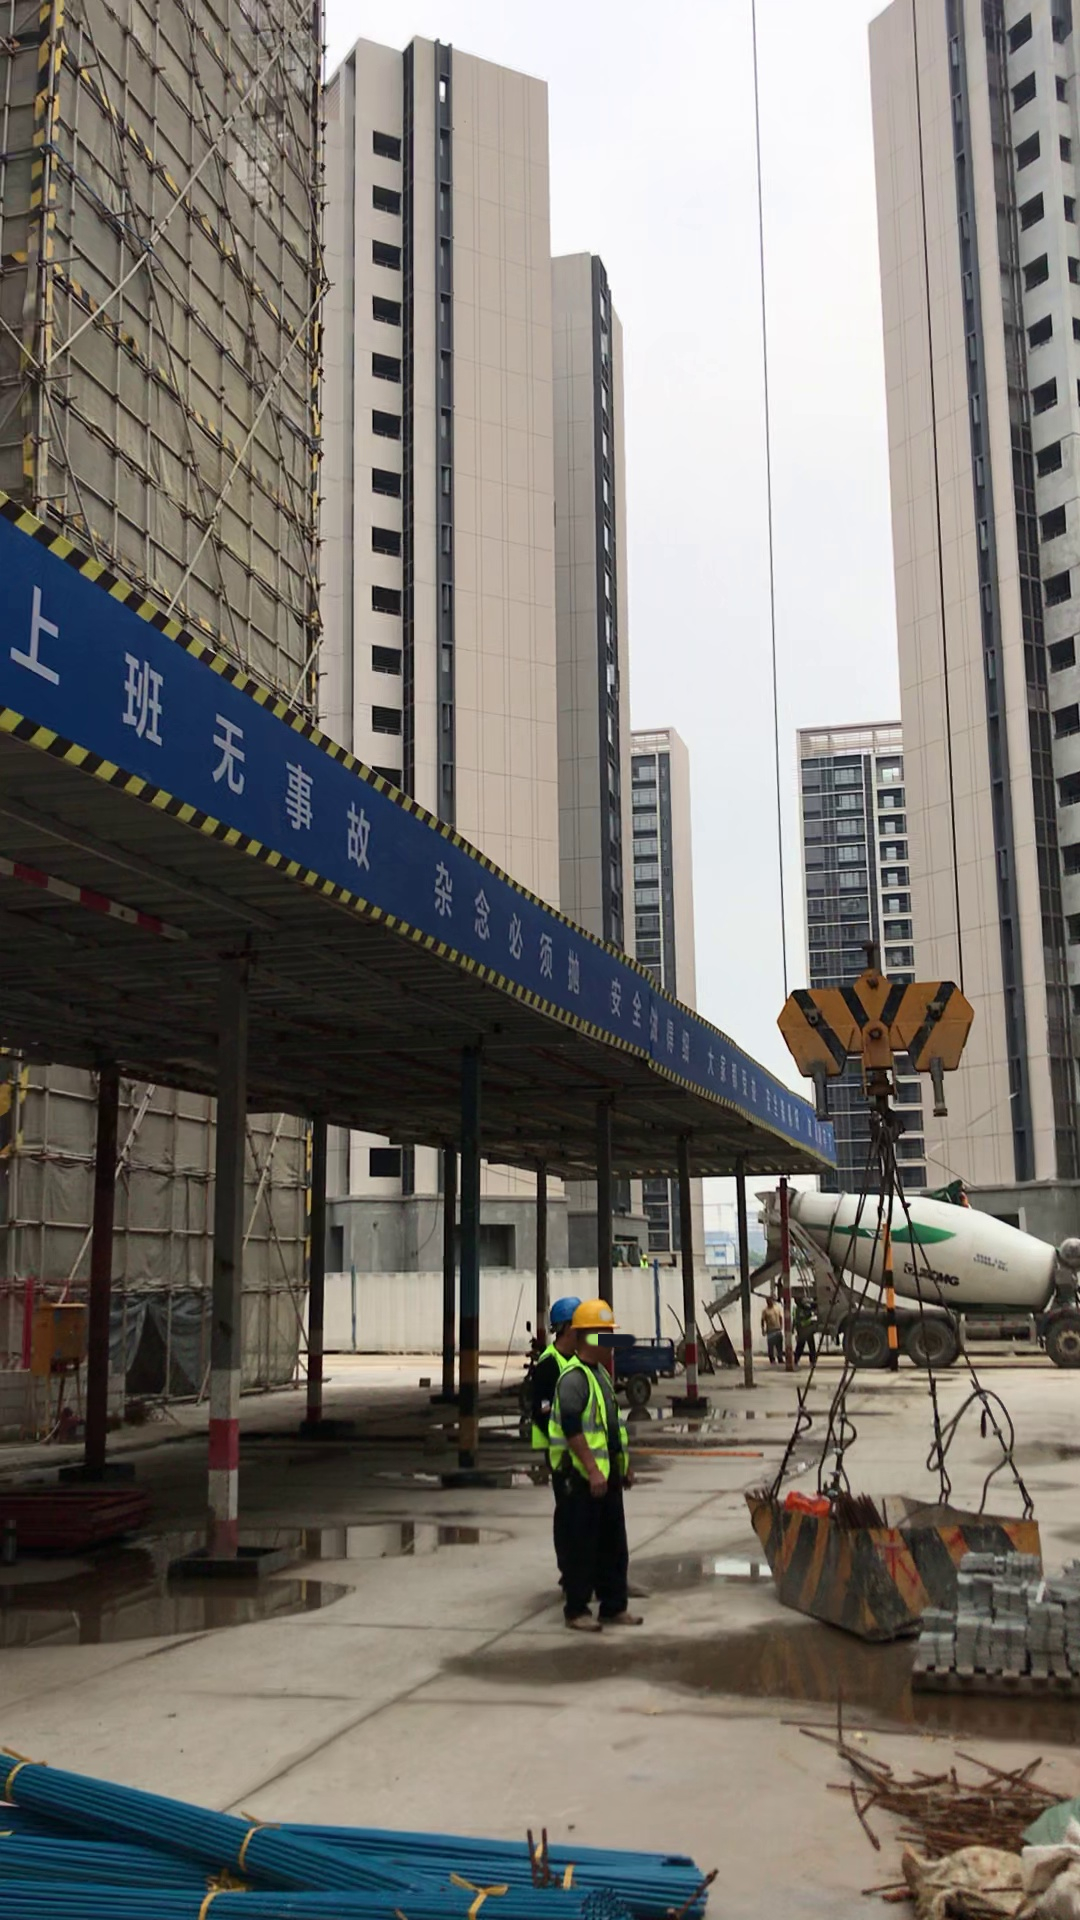ebox: (7, 1291, 105, 1390)
handcart: (668, 1293, 746, 1372)
helmet: (561, 1297, 620, 1329), (536, 1290, 578, 1326)
hook: (771, 936, 975, 1095)
person: (546, 1298, 649, 1650), (510, 1288, 596, 1455)
slogan: (27, 576, 802, 1148)
vest: (564, 1370, 635, 1487)
